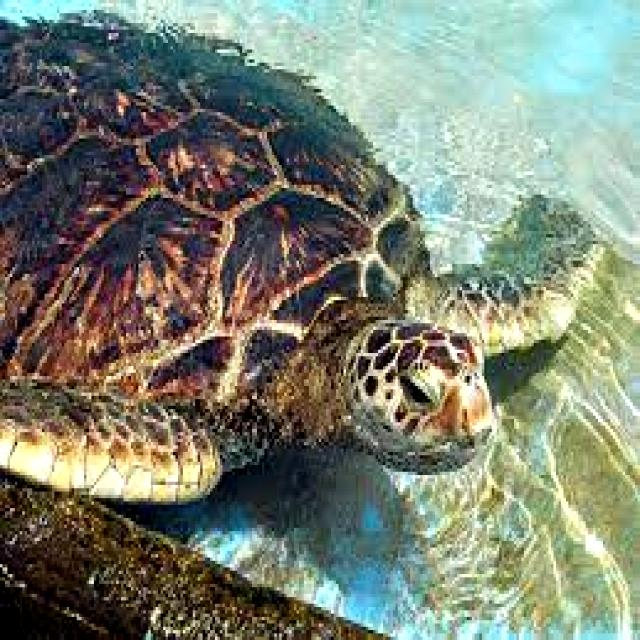Sea turtle: (0, 0, 608, 497)
